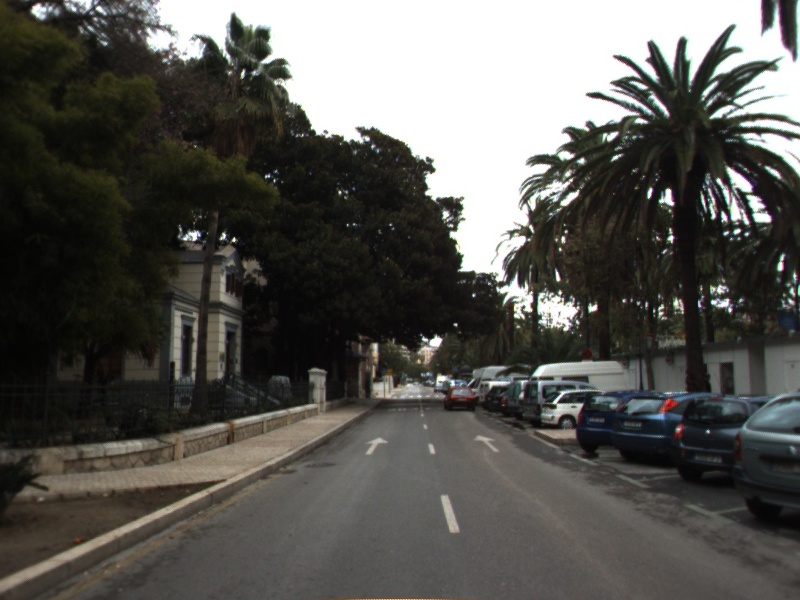STRAIGHT: (472, 433, 501, 454), (362, 435, 390, 456)
